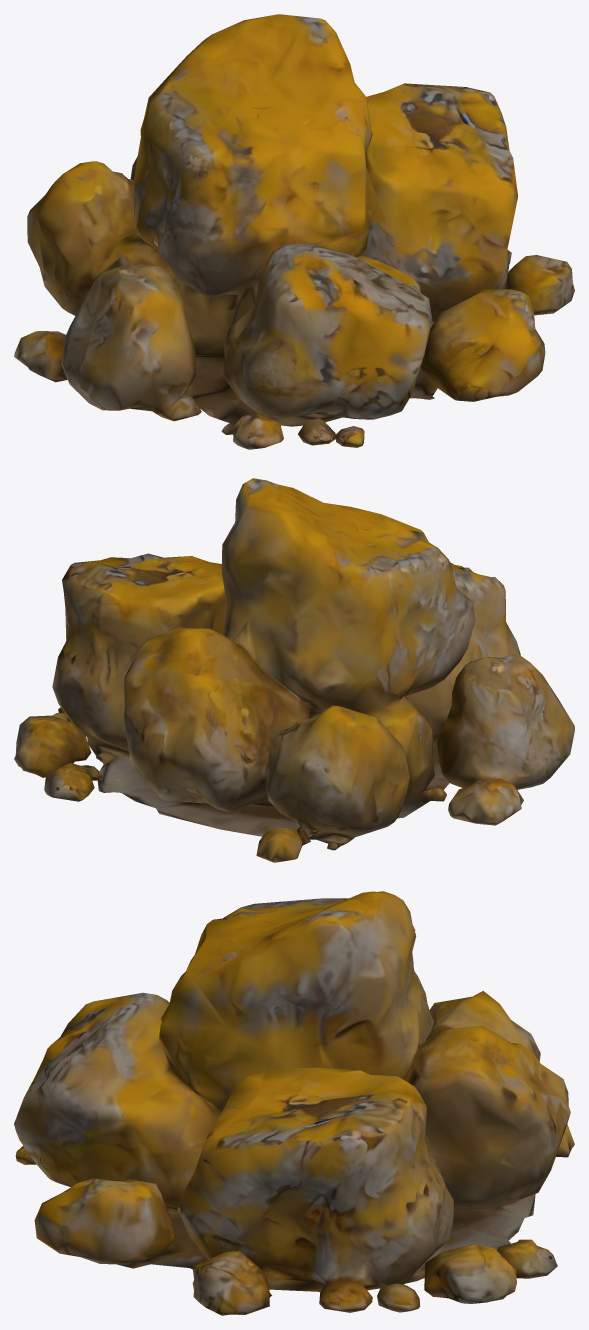
File: res_sulfur.glb
3 renders of one model, top to bottom at view 1: azimuth 30°, elevation 25°; view 2: azimuth 150°, elevation 25°; view 3: azimuth 270°, elevation 25°, orthographic. The views are drawn at different scales.
Parts seen in each view (by area): view 1: tripo_node_dc254351-1bdf-4092-81bd-91d3c9086883; view 2: tripo_node_dc254351-1bdf-4092-81bd-91d3c9086883; view 3: tripo_node_dc254351-1bdf-4092-81bd-91d3c9086883.
Part boxes in pixels (x1,y1,x2,y2): tripo_node_dc254351-1bdf-4092-81bd-91d3c9086883: [14, 14, 574, 449]; tripo_node_dc254351-1bdf-4092-81bd-91d3c9086883: [14, 478, 574, 862]; tripo_node_dc254351-1bdf-4092-81bd-91d3c9086883: [14, 891, 574, 1315].
Bounding box in the file's own units: 1.4 × 0.8045 × 1.33.
1 material, 1 textured.
